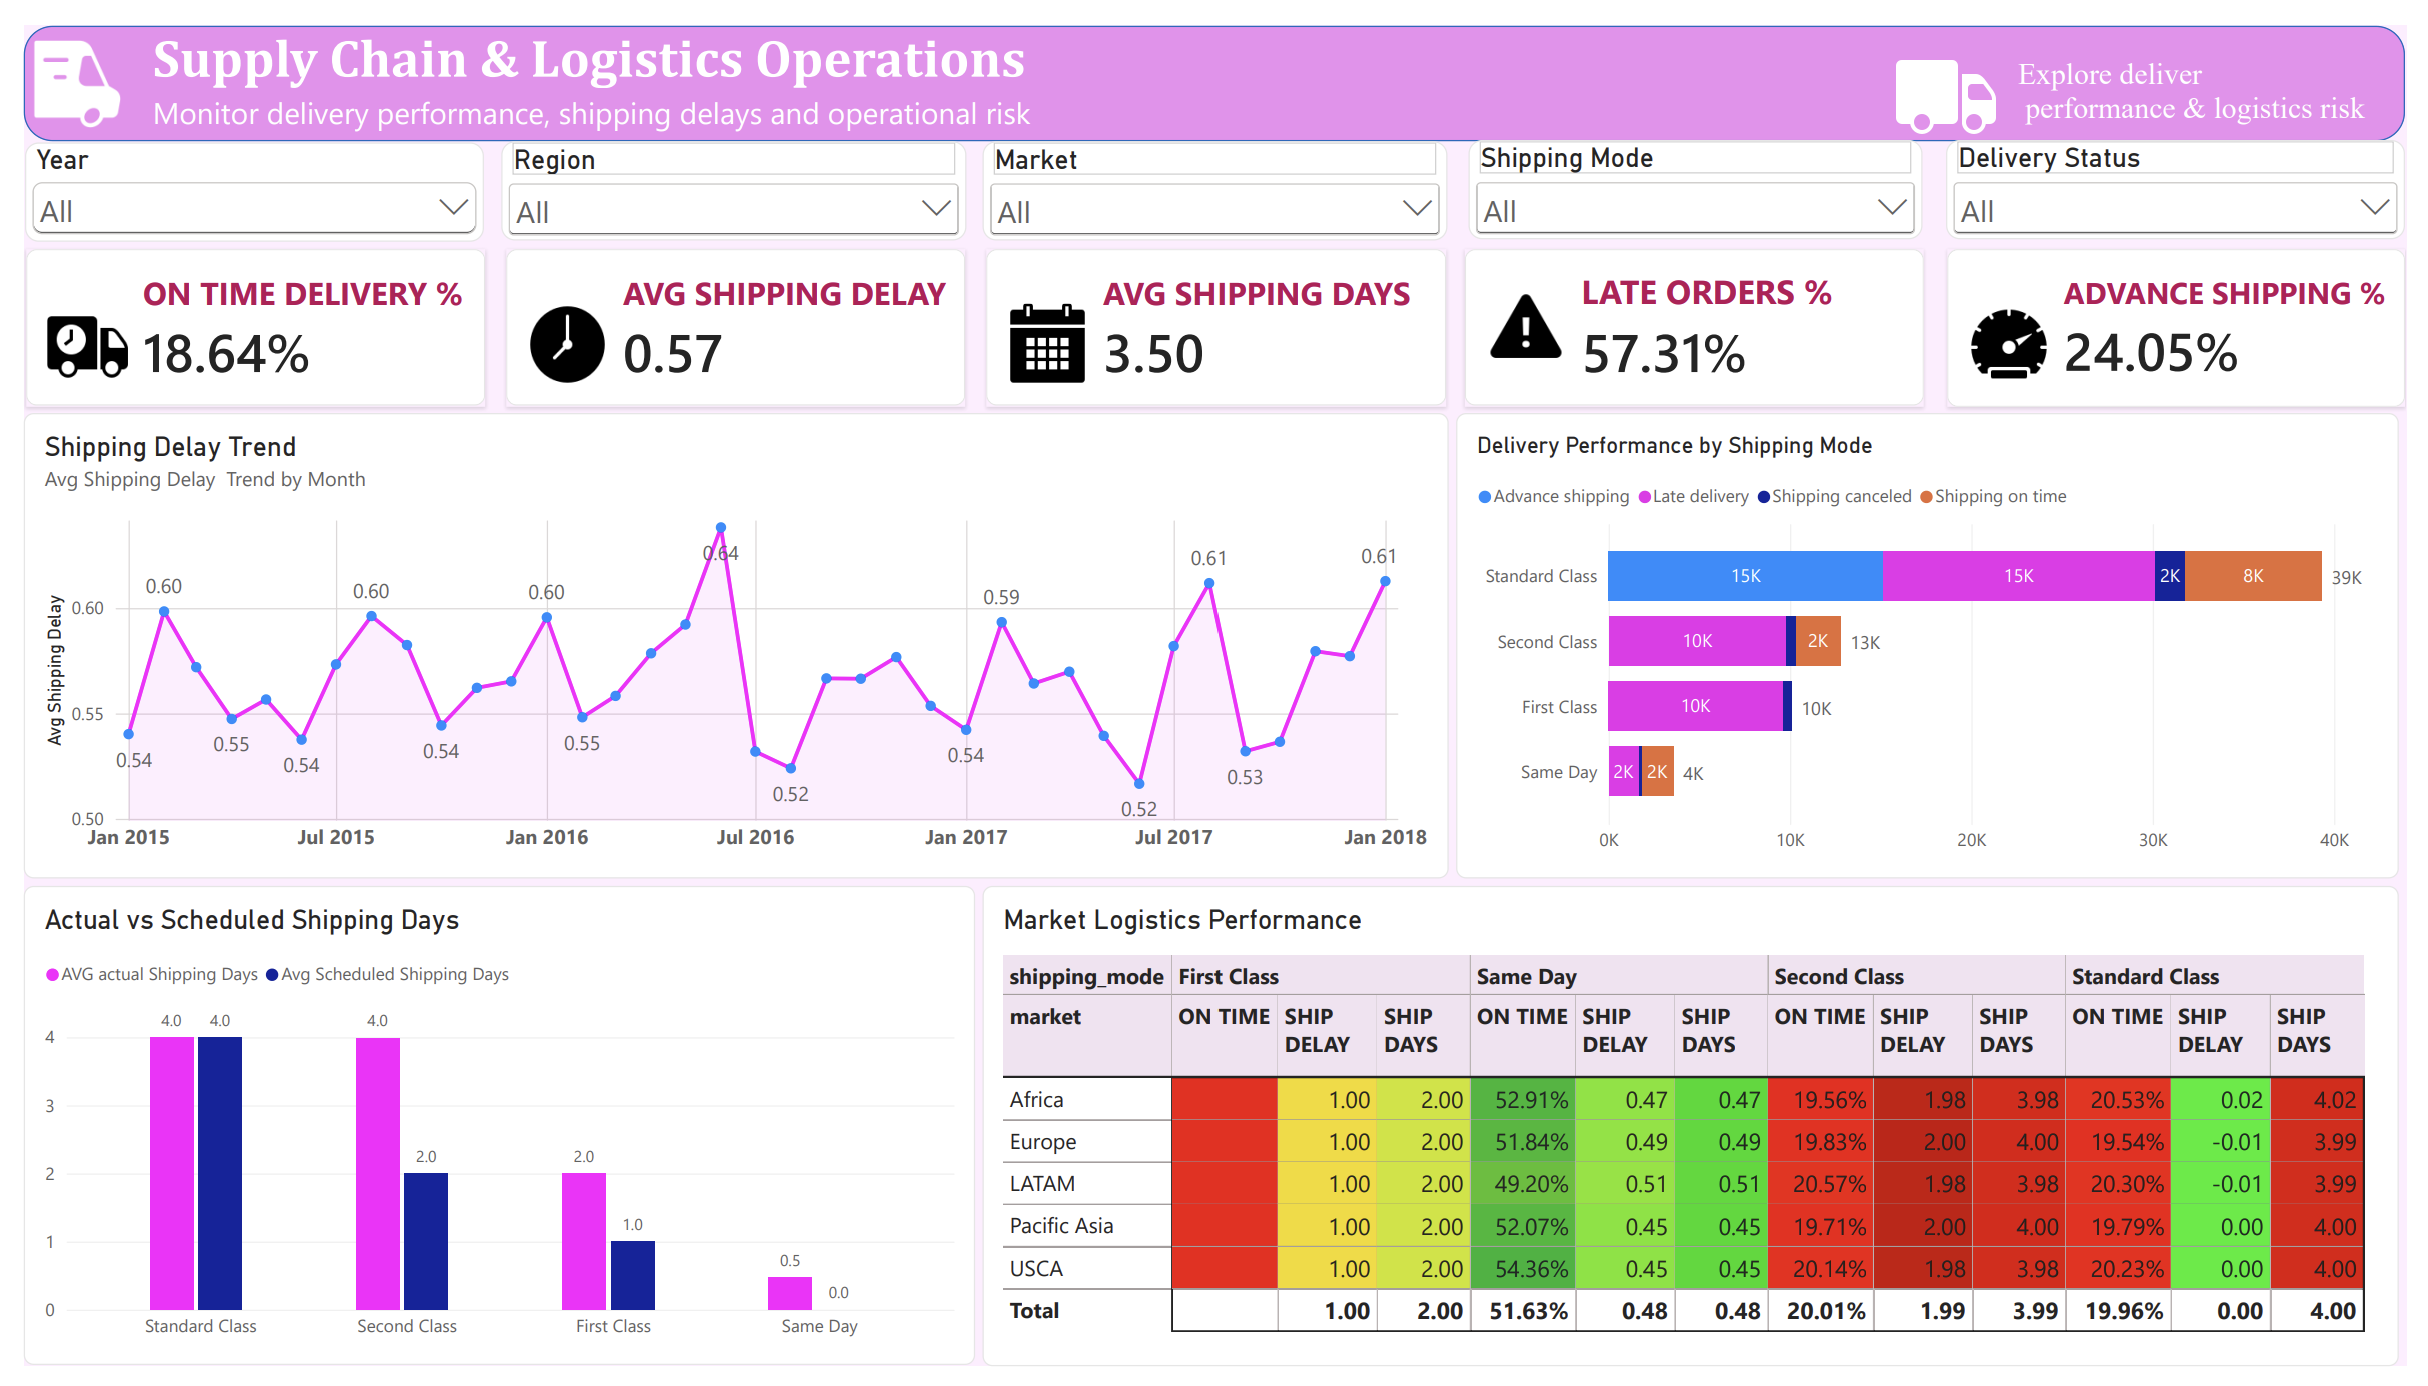

This screenshot's page, from the dashboard's own definition file:
{"tool":"powerbi","page":{"name":"Supply Chain & Logistics Operations","canvas":[1920,1080],"ordinal":3},"visuals":[{"type":"shape","box":[0,0,1919.3,93],"z":0},{"type":"textbox","title":"Supply Chain & Logistics Operations","box":[104.1,0,783.9,112.5],"z":1000},{"type":"slicer","fields":{"Values":["dim_date.year_number"]},"box":[1.2,93.5,370.2,80],"z":2000},{"type":"slicer","fields":{"Values":["dim_order_locations.region"]},"box":[385.5,92.7,374.5,80],"z":3000},{"type":"slicer","fields":{"Values":["dim_order_locations.market"]},"box":[772.8,92.8,374.4,80],"z":4000},{"type":"slicer","fields":{"Values":["fact_order_items.shipping_mode"]},"box":[1163.6,92.1,366.8,80.2],"z":5000},{"type":"slicer","fields":{"Values":["fact_order_items.delivery_status"]},"box":[1549.2,92.1,370,80],"z":6000},{"type":"cardVisual","fields":{"Data":["_Measures.On Time Delivery %"]},"box":[1.7,180,370,126.7],"z":7000},{"type":"cardVisual","fields":{"Data":["_Measures.Avg Shipping Delay"]},"box":[389,180,370,126.7],"z":8000},{"type":"cardVisual","fields":{"Data":["_Measures.AVG actual Shipping Days"]},"box":[776.3,180,370,126.7],"z":9000},{"type":"lineChart","title":"Shipping Delay Trend","fields":{"Y":["_Measures.Avg Shipping Delay"],"Category":["dim_date.calendar_date.Variation.Date Hierarchy.Year","dim_date.calendar_date.Variation.Date Hierarchy.Month"]},"box":[0,312.5,1148.2,375],"z":10000},{"type":"clusteredColumnChart","title":"Actual vs Scheduled Shipping Days","fields":{"Y":["_Measures.AVG actual Shipping Days","_Measures.Avg Scheduled Shipping Days"],"Category":["fact_order_items.shipping_mode"]},"box":[0,692.9,767,385.7],"z":11000},{"type":"cardVisual","fields":{"Data":["_Measures.Late Delivery %"]},"box":[1160.7,180,370,126.7],"z":12000},{"type":"cardVisual","fields":{"Data":["_Measures.Advance Shipping %"]},"box":[1550,180,369.3,127.1],"z":13000},{"type":"barChart","title":"Delivery Performance by Shipping Mode","fields":{"Series":["fact_order_items.delivery_status"],"Y":["_Measures.Total Orders"],"Category":["fact_order_items.shipping_mode"]},"box":[1153.6,312.5,760.7,375],"z":14000},{"type":"pivotTable","title":"Market Logistics Performance","fields":{"Rows":["dim_order_locations.market"],"Columns":["fact_order_items.shipping_mode"],"Values":["_Measures.On Time Delivery %","_Measures.Avg Shipping Delay","_Measures.AVG actual Shipping Days"]},"box":[773.2,692.9,1141,387],"z":15000},{"type":"image","box":[0,11.9,85.3,70],"z":16000},{"type":"textbox","box":[1607.2,6.8,298.6,80.2],"z":17000},{"type":"image","box":[1480.9,6.8,136.5,80.2],"z":18000}]}

Visuals, with their boxes in screenshot pixels (x1, y1, x2, y2), scaled from the page's 1920x1080 canvas onto the 2428x1386 screenshot:
shape: region(0, 0, 2427, 119)
"Supply Chain & Logistics Operations" textbox: region(132, 0, 1123, 144)
slicer - dim_date.year_number: region(2, 120, 470, 223)
slicer - dim_order_locations.region: region(487, 119, 961, 222)
slicer - dim_order_locations.market: region(977, 119, 1451, 222)
slicer - fact_order_items.shipping_mode: region(1471, 118, 1935, 221)
slicer - fact_order_items.delivery_status: region(1959, 118, 2427, 221)
cardVisual - _Measures.On Time Delivery %: region(2, 231, 470, 394)
cardVisual - _Measures.Avg Shipping Delay: region(492, 231, 960, 394)
cardVisual - _Measures.AVG actual Shipping Days: region(982, 231, 1450, 394)
"Shipping Delay Trend" lineChart: region(0, 401, 1452, 882)
"Actual vs Scheduled Shipping Days" clusteredColumnChart: region(0, 889, 970, 1384)
cardVisual - _Measures.Late Delivery %: region(1468, 231, 1936, 394)
cardVisual - _Measures.Advance Shipping %: region(1960, 231, 2427, 394)
"Delivery Performance by Shipping Mode" barChart: region(1459, 401, 2421, 882)
"Market Logistics Performance" pivotTable: region(978, 889, 2421, 1385)
image: region(0, 15, 108, 105)
textbox: region(2032, 9, 2410, 112)
image: region(1873, 9, 2045, 112)
